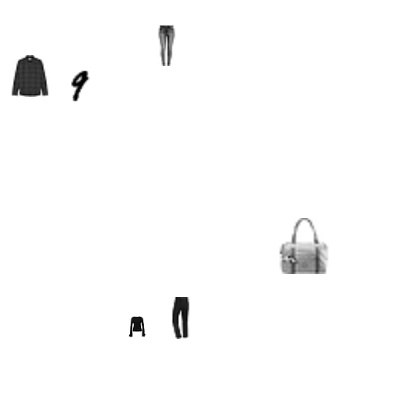9: (58, 62, 100, 104)
Bag: (276, 218, 332, 274)
Pullover: (126, 316, 148, 338)
Shirt: (9, 55, 51, 97)
Trouser: (145, 24, 187, 66), (159, 297, 201, 339)
